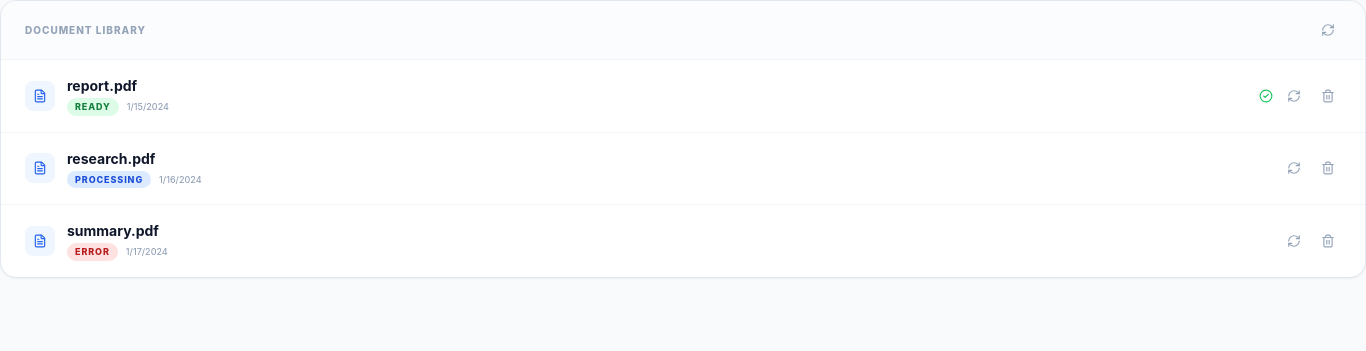
Scenario: DocumentManager › shows error banner with API detail when reprocess fails
The image size is (1366, 351).
expect the text "report.pdf" is shown: met, box [67,77,137,94]
Click the button named "reprocess" at (1294, 96), box [1281,83,1307,109]
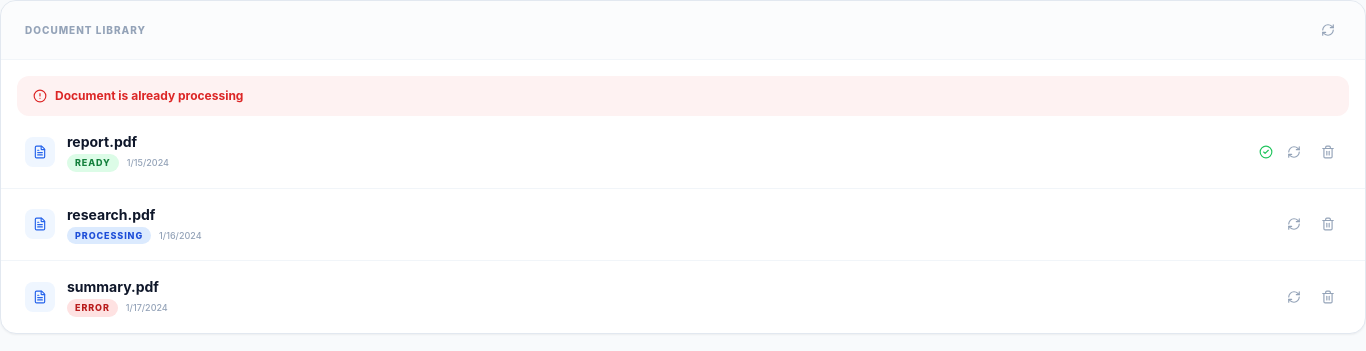
expect the text "Document is already processing" is shown: met, box [55,88,244,104]
